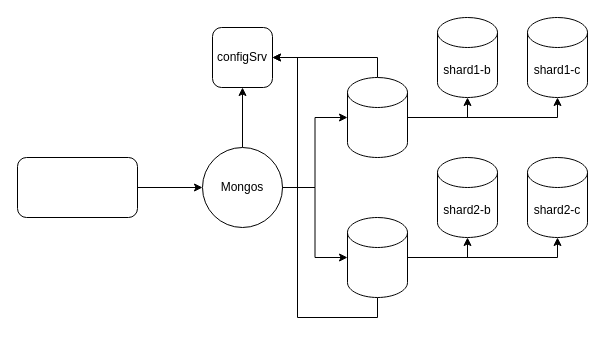
Image size: 605x343. Some labels were removed from this diagram. Each missing label, with the centre of its shape:
"pymongo-api" goes at point 77,187.
"shard1-a" goes at point 377,117.
"shard2-a" goes at point 377,257.
